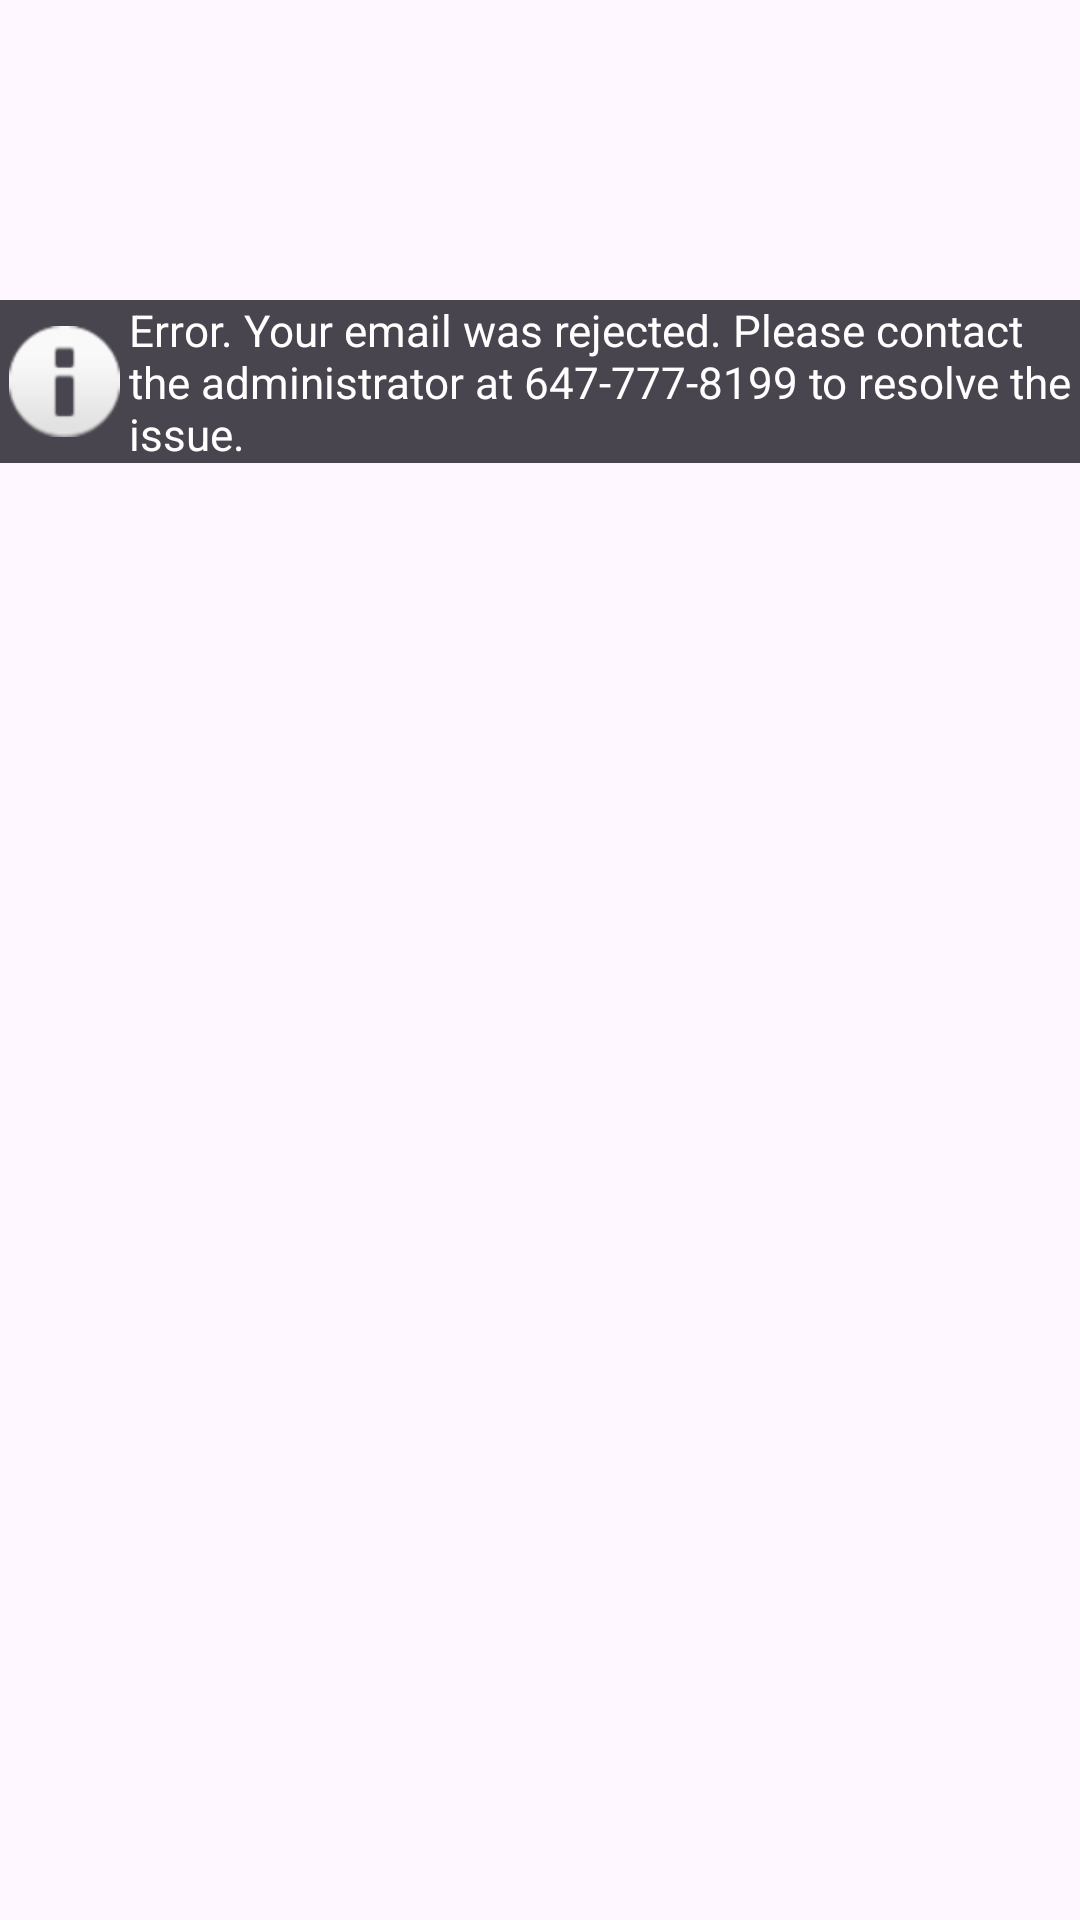

Icons on this 1080 × 1920 Android screen, each with the point to tap as (x=x, y=y):
info: (x=64, y=381)
